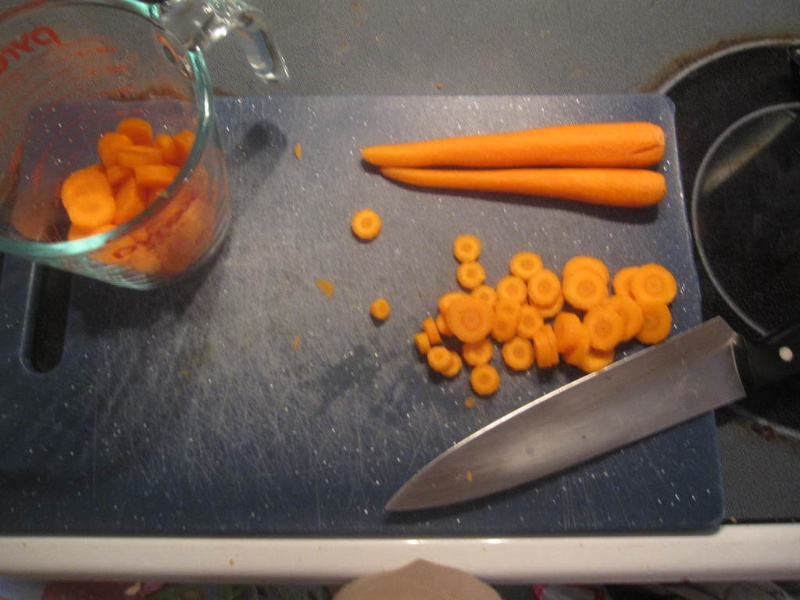knife: (380, 311, 800, 518)
